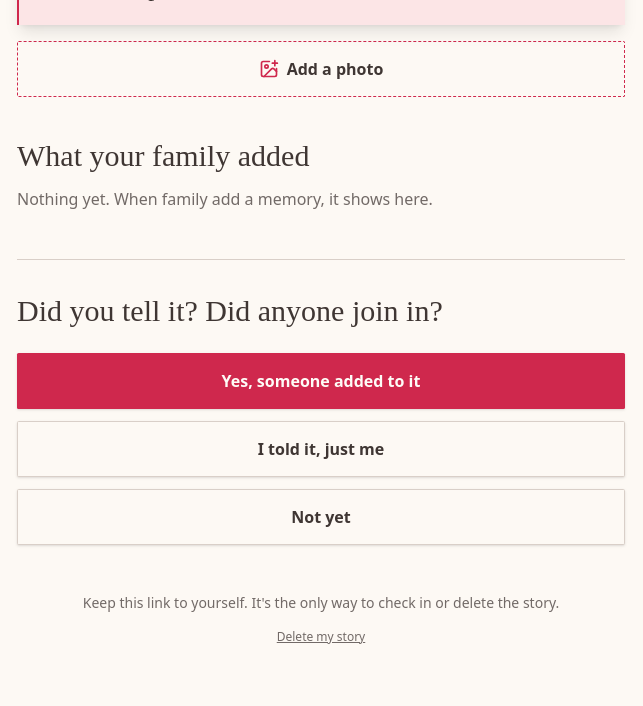
Test: Remember When mutation recovery › keeps the story available when deletion fails
(page scrolled)
Click the button "Delete my story" at (321, 637), box left=277, top=629, right=365, bottom=645
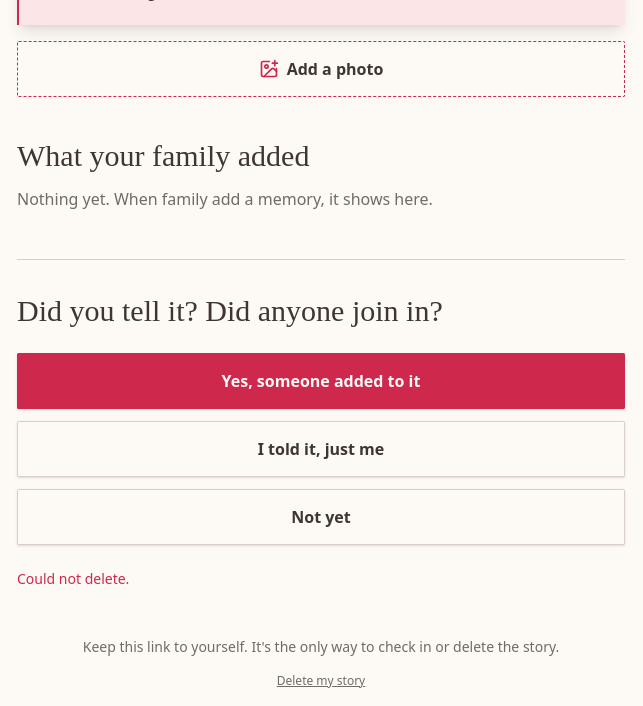
Check: the button "Delete my story" is enabled, box left=277, top=673, right=365, bottom=689
Check: the message "Could not delete." is shown, box left=17, top=569, right=129, bottom=588
